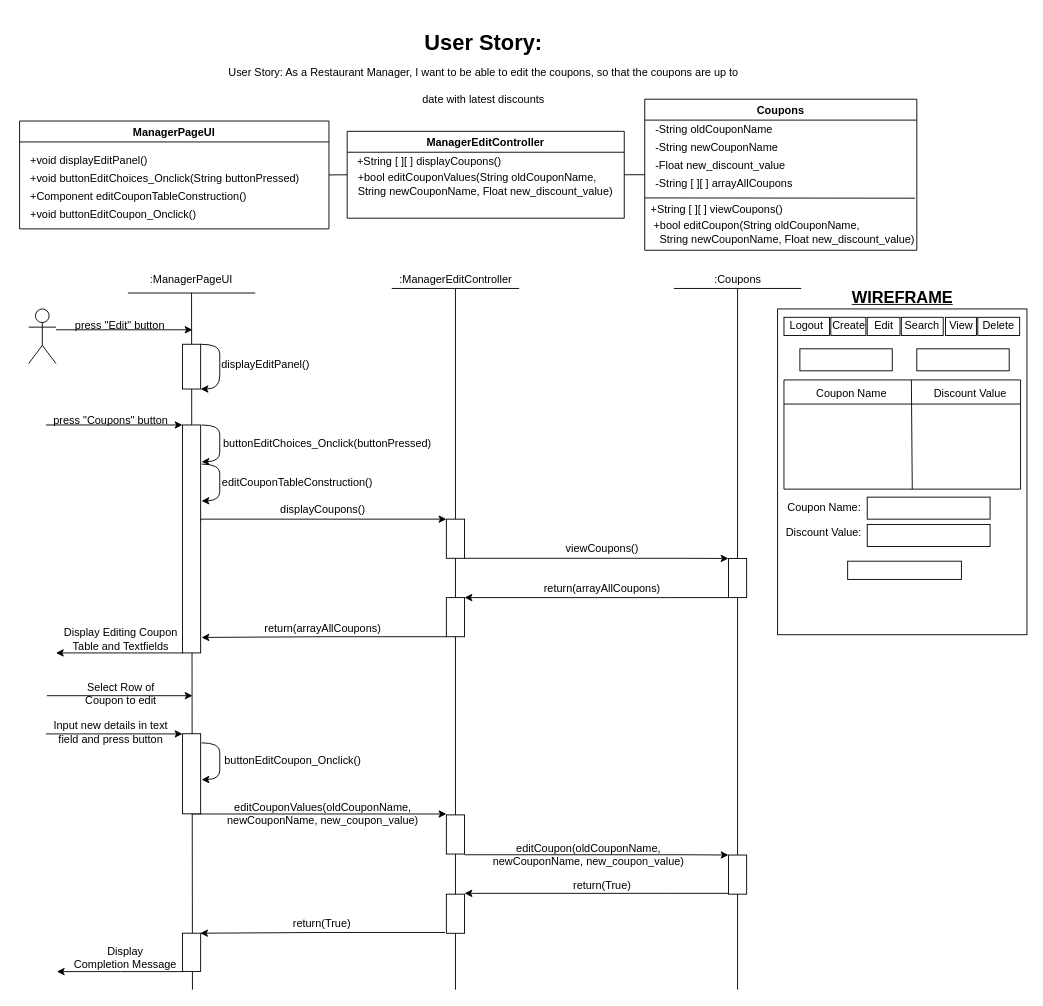
This 1043x1006 diagram has some shape labels left out. Here are the shapes that lost their labels. From the top down, the centre of each, then its label:
(x=42, y=336): Restaurant Manager
(x=845, y=359): Menu Items
(x=962, y=359): Coupon
(x=904, y=569): Edit Coupon
